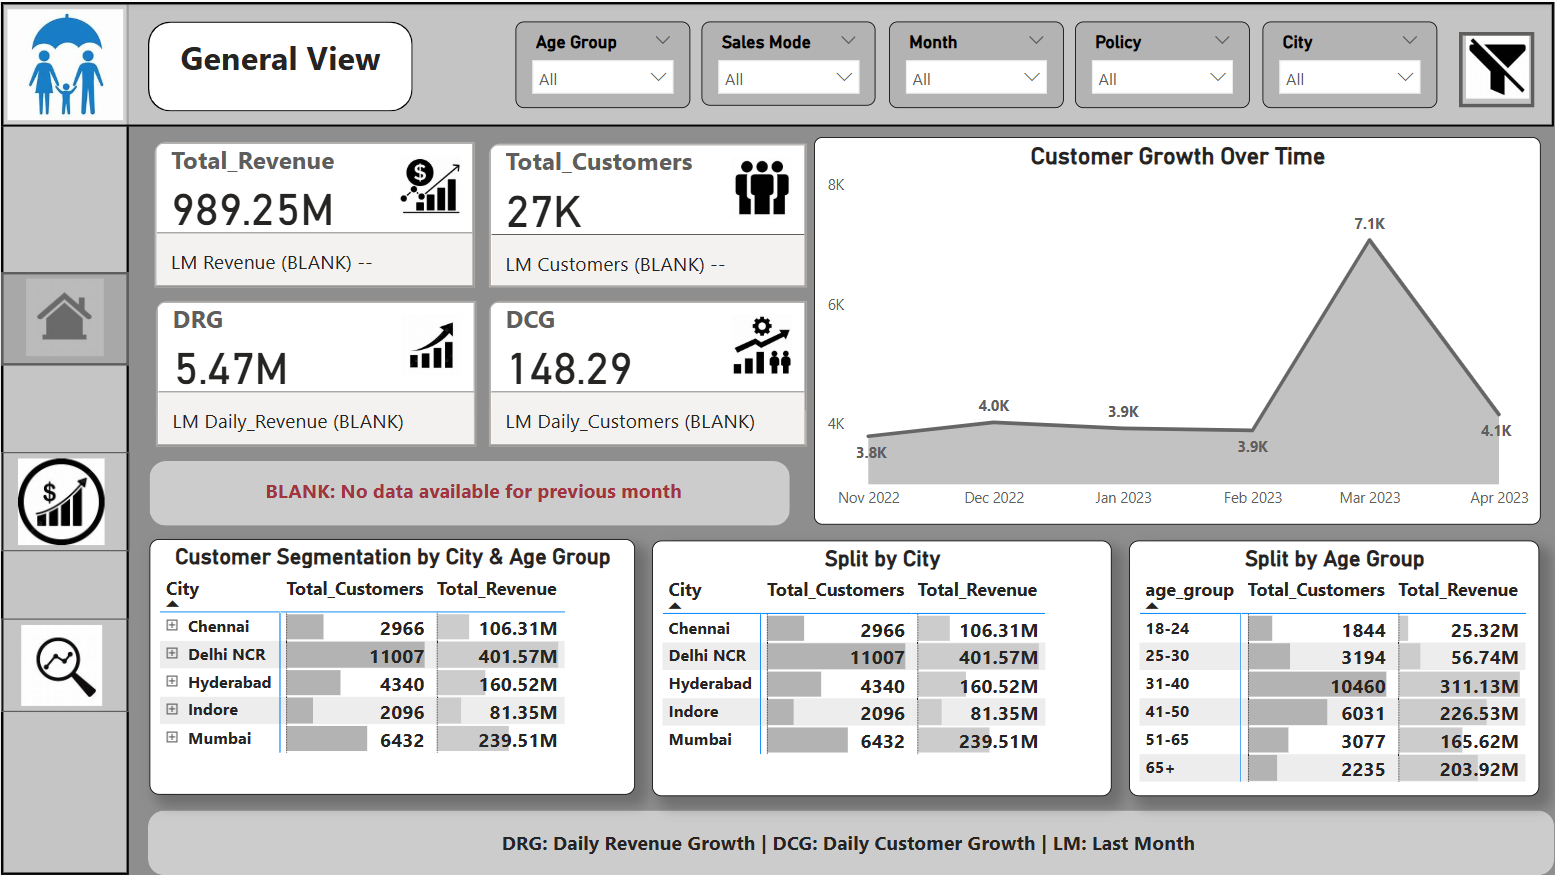

The dashboard page shown, as its layout file describes it:
{"tool":"powerbi","page":{"name":"General View","canvas":[1280,720],"ordinal":0},"visuals":[{"type":"shape","box":[0,0,105.4,719.1],"z":0},{"type":"shape","box":[0,0,1279.5,103],"z":1000},{"type":"image","box":[0,0,105.4,102.7],"z":2000},{"type":"image","box":[0,223,105.4,74.3],"z":3000},{"type":"image","box":[0,371,99.9,81.8],"z":4000},{"type":"image","box":[0,508.2,100,77],"z":5000},{"type":"actionButton","box":[0,371,106,81.8],"z":6000},{"type":"actionButton","box":[0,223,105.4,77],"z":7000},{"type":"actionButton","box":[0,508.2,105.4,77],"z":8000},{"type":"slicer","fields":{"Values":["dim_customer.age_group"]},"box":[424,15.9,143.8,71.2],"z":9000},{"type":"slicer","fields":{"Values":["dim_policies.policy_id"]},"box":[885.1,16.3,143.8,71.2],"z":10000},{"type":"slicer","fields":{"Values":["fact_premiums.sales_mode"]},"box":[577.6,16.1,143.6,69.4],"z":11000},{"type":"slicer","fields":{"Values":["dim_date.mmm_yy"]},"box":[731.4,15.5,143.8,71.2],"z":12000},{"type":"slicer","fields":{"Values":["dim_customer.city"]},"box":[1038.7,16.7,143.8,71.2],"z":13000},{"type":"image","box":[1196.2,22.7,72.7,62.1],"z":14000},{"type":"shape","box":[121.1,16.7,218,74.2],"z":15000},{"type":"textbox","box":[133.3,22.7,193.8,62.1],"z":16000},{"type":"cardVisual","fields":{"Data":["Measure Table.Total_Revenue"]},"box":[121.1,110.5,274.1,130.2],"z":17000},{"type":"cardVisual","fields":{"Data":["Measure Table.Daily_Revenue"]},"box":[122.7,240.8,274.1,130.2],"z":18000},{"type":"cardVisual","fields":{"Data":["Measure Table.Daily_Customers"]},"box":[396.9,240.4,272.7,130.7],"z":19000},{"type":"cardVisual","fields":{"Data":["Measure Table.Total_Customers"]},"box":[396.9,111.3,272.7,129.1],"z":20000},{"type":"shape","box":[122.6,377.5,527.6,53.2],"z":21000},{"type":"textbox","box":[133.9,385.6,516.3,37.1],"z":22000},{"type":"areaChart","title":"Customer Growth Over Time","fields":{"Y":["Measure Table.Total_Customers"],"Category":["dim_date.date.Variation.Date Hierarchy.Year","dim_date.date.Variation.Date Hierarchy.Quarter","dim_date.date.Variation.Date Hierarchy.Month"]},"box":[669.6,111.3,598.6,319.5],"z":23000},{"type":"shape","box":[121,666.4,1158.5,53.2],"z":24000},{"type":"textbox","box":[121,676,1158.5,37.1],"z":25000},{"type":"pivotTable","title":"Customer Segmentation by City & Age Group","fields":{"Rows":["dim_customer.city","dim_customer.age_group"],"Values":["Measure Table.Total_Customers","Measure Table.Total_Revenue"]},"box":[122.7,442.1,399.8,210.5],"z":26000},{"type":"pivotTable","title":"Split by City","fields":{"Rows":["dim_customer.city"],"Values":["Measure Table.Total_Customers","Measure Table.Total_Revenue"]},"box":[536.8,443.7,378.6,210.5],"z":26001},{"type":"pivotTable","title":"Split by Age Group","fields":{"Rows":["dim_customer.age_group"],"Values":["Measure Table.Total_Customers","Measure Table.Total_Revenue"]},"box":[929.7,443.7,337.7,210.5],"z":26002},{"type":"actionButton","box":[1201.7,24.3,62.2,62.2],"z":26003}]}

Visuals, with their boxes in screenshot pixels (x1, y1, x2, y2), scaled from the page's 1280x720 canvas onto the 1555x875 screenshot:
shape: 0,0,128,874
shape: 0,0,1554,125
image: 0,0,128,125
image: 0,271,128,361
image: 0,451,121,550
image: 0,618,121,711
actionButton: 0,451,129,550
actionButton: 0,271,128,365
actionButton: 0,618,128,711
slicer - dim_customer.age_group: 515,19,690,106
slicer - dim_policies.policy_id: 1075,20,1250,106
slicer - fact_premiums.sales_mode: 702,20,876,104
slicer - dim_date.mmm_yy: 889,19,1063,105
slicer - dim_customer.city: 1262,20,1437,107
image: 1453,28,1542,103
shape: 147,20,412,110
textbox: 162,28,397,103
cardVisual - Measure Table.Total_Revenue: 147,134,480,293
cardVisual - Measure Table.Daily_Revenue: 149,293,482,451
cardVisual - Measure Table.Daily_Customers: 482,292,813,451
cardVisual - Measure Table.Total_Customers: 482,135,813,292
shape: 149,459,790,523
textbox: 163,469,790,514
"Customer Growth Over Time" areaChart: 813,135,1541,524
shape: 147,810,1554,874
textbox: 147,822,1554,867
"Customer Segmentation by City & Age Group" pivotTable: 149,537,635,793
"Split by City" pivotTable: 652,539,1112,795
"Split by Age Group" pivotTable: 1129,539,1540,795
actionButton: 1460,30,1535,105
